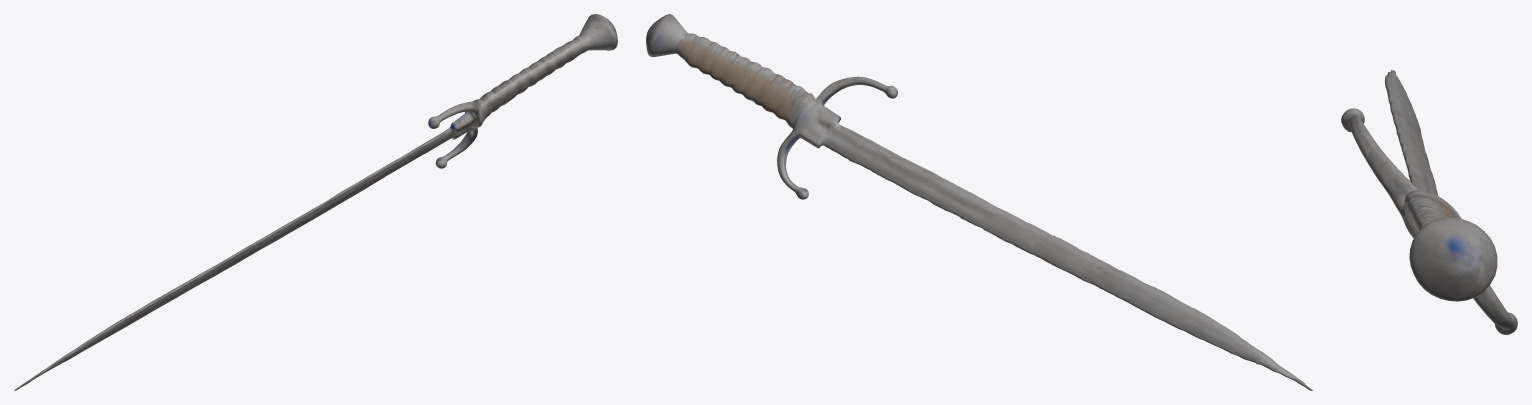
Rendered from Steel Sword.glb.
3 renders of one model, left to right at view 1: azimuth 30°, elevation 25°; view 2: azimuth 150°, elevation 25°; view 3: azimuth 270°, elevation 25°, orthographic. The views are drawn at different scales.
Parts seen in each view (by area): view 1: file1; view 2: file1; view 3: file1.
Boxes of the visible parts, x1,y1,x2,y2 form: file1: (14,14,617,390); file1: (646,14,1312,390); file1: (1341,70,1517,334).
Size of the model in its own units: 2 by 0.6824 by 0.2495.
1 material, 1 textured.
